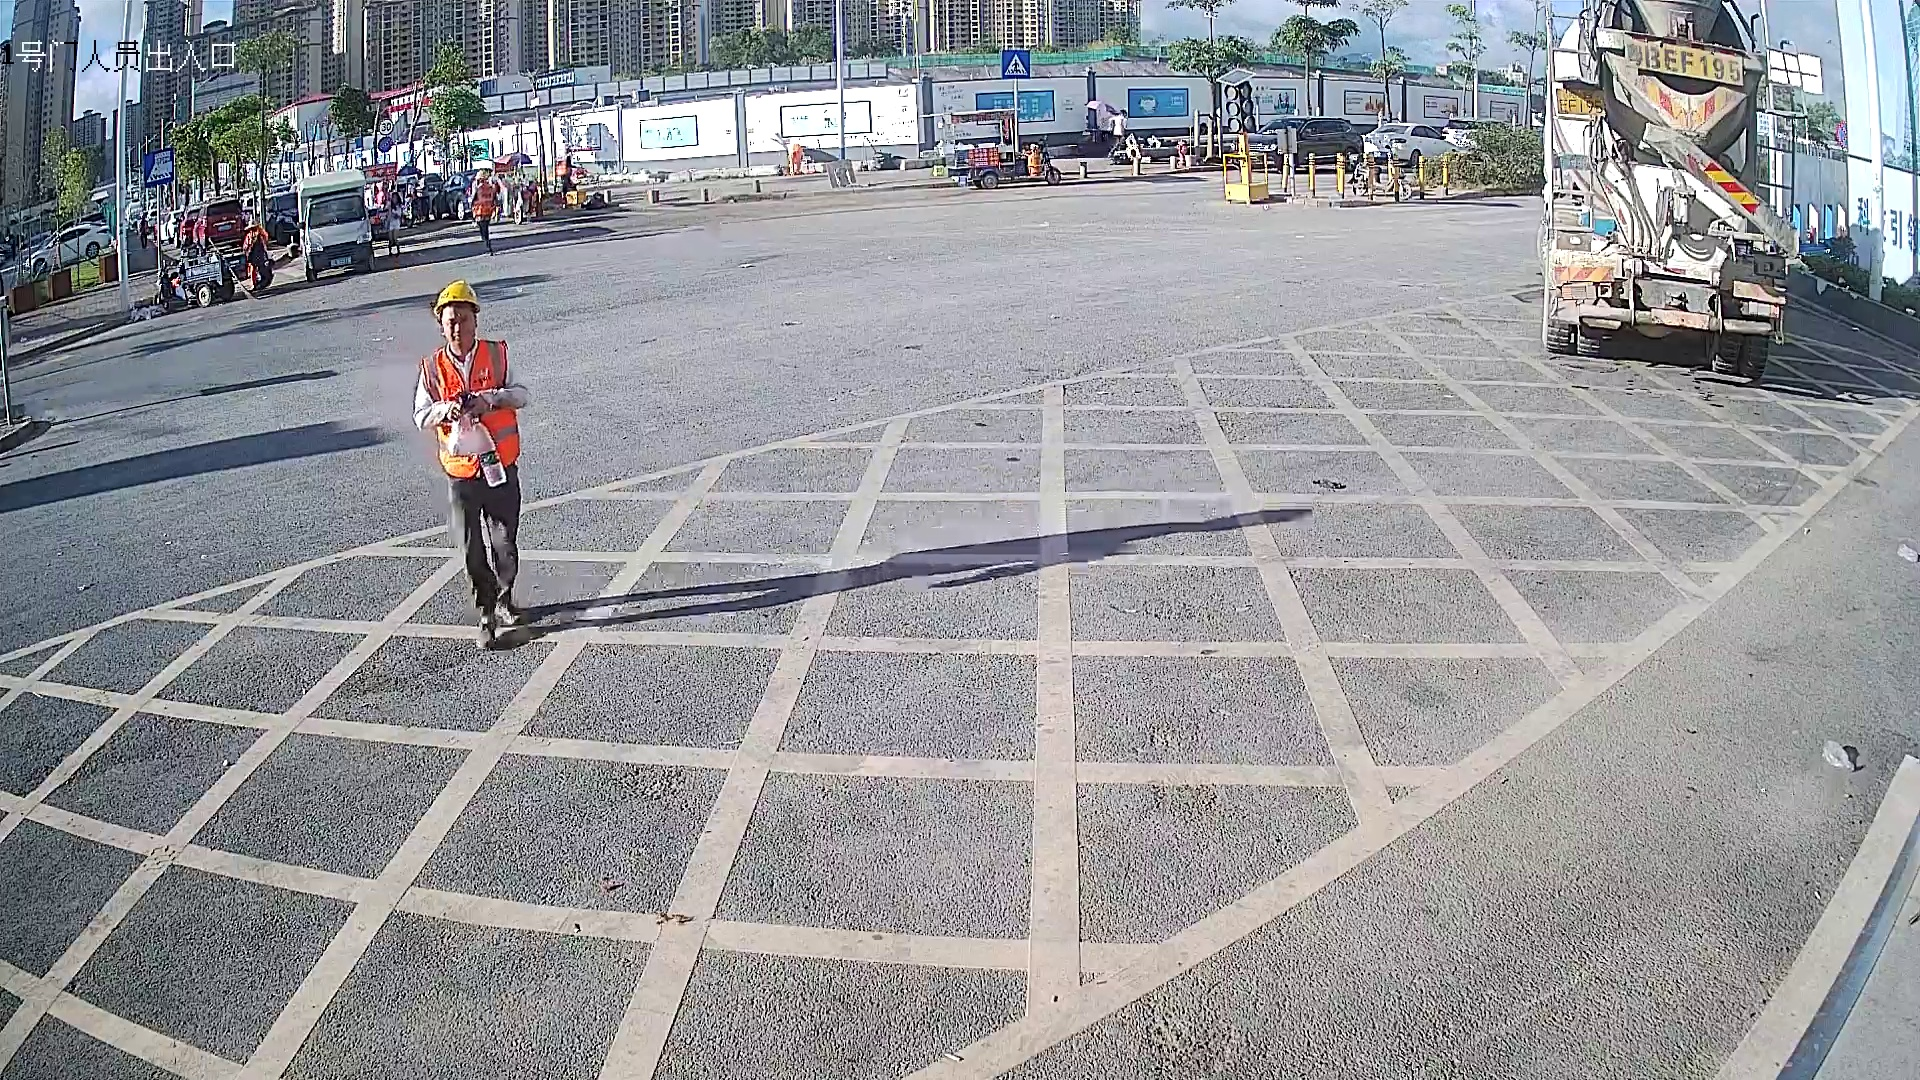person: (411, 278, 532, 650), (470, 169, 498, 257)
reflective_vest: (417, 338, 521, 478), (471, 183, 495, 216)
safety_helmet: (430, 278, 479, 353), (475, 169, 489, 184)
